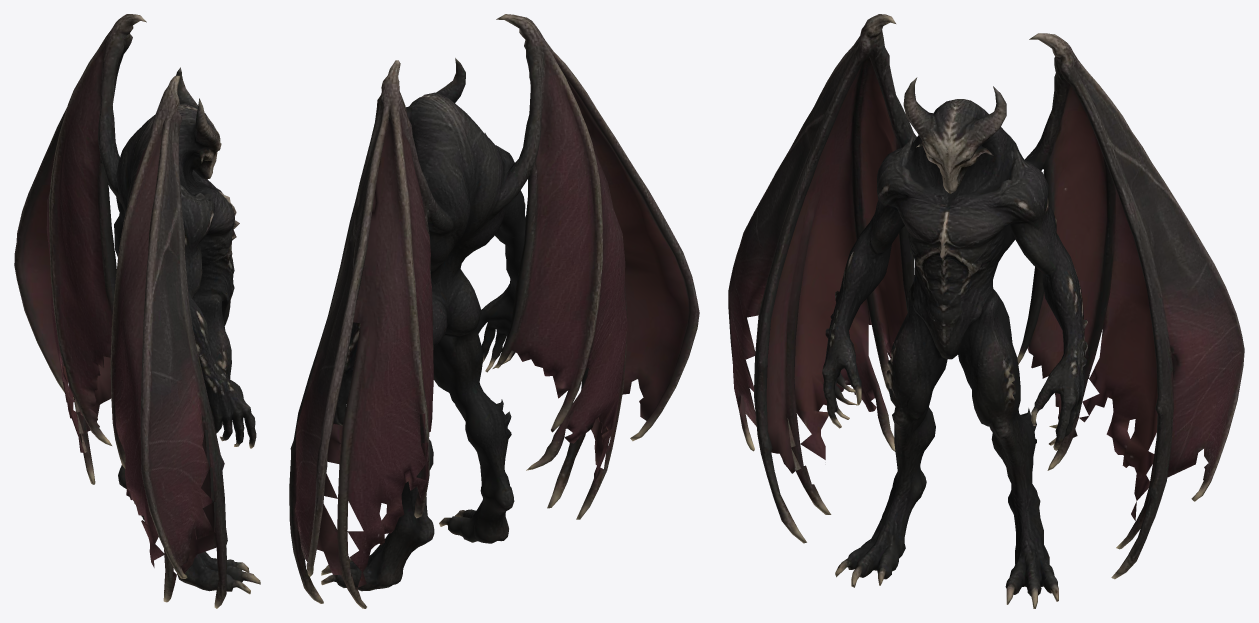
Rendered from rig-source-cleaned.glb.
3 views of the same model, side by side, from view 1: azimuth 30°, elevation 25°; view 2: azimuth 150°, elevation 25°; view 3: azimuth 270°, elevation 25° (orthographic). The views are drawn at different scales.
Visible parts, largest first — view 1: tripo_node_1a89f28f-1481-41c8-9f1c-6082eaf82379; view 2: tripo_node_1a89f28f-1481-41c8-9f1c-6082eaf82379; view 3: tripo_node_1a89f28f-1481-41c8-9f1c-6082eaf82379.
Part boxes in pixels (left/top/right/bottom): tripo_node_1a89f28f-1481-41c8-9f1c-6082eaf82379: left=14, top=14, right=260, bottom=608; tripo_node_1a89f28f-1481-41c8-9f1c-6082eaf82379: left=289, top=14, right=699, bottom=608; tripo_node_1a89f28f-1481-41c8-9f1c-6082eaf82379: left=728, top=14, right=1244, bottom=608.
Bounding box in the file's own units: 0.4442 × 1 × 0.8708.
Materials: 1 (1 with a texture image).
